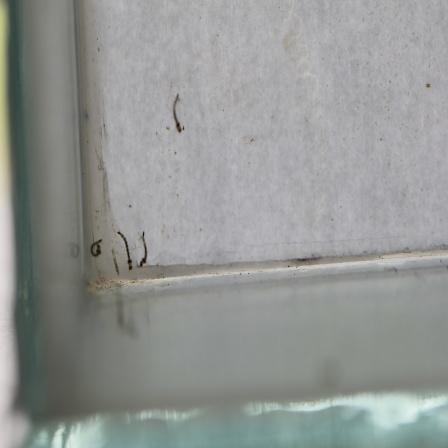Jentik-Nyamuk: (114, 227, 135, 272), (170, 88, 185, 137), (137, 227, 151, 269), (87, 236, 105, 261)
